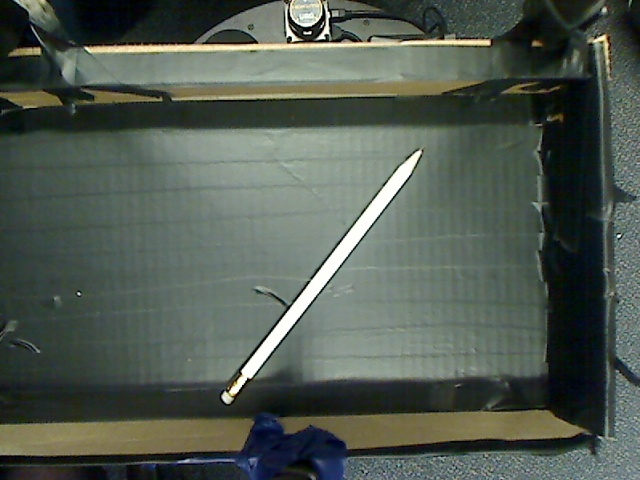pencil: (208, 139, 433, 410)
